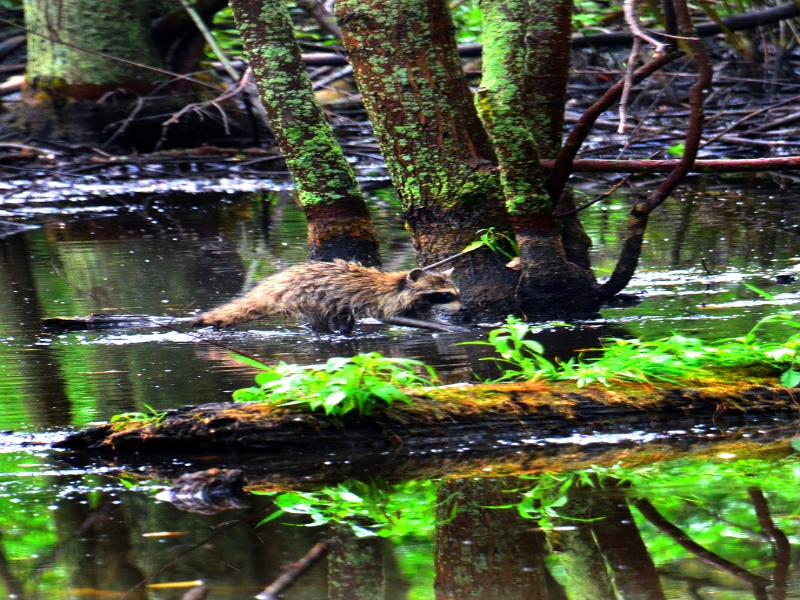raccoon: (186, 258, 462, 338)
